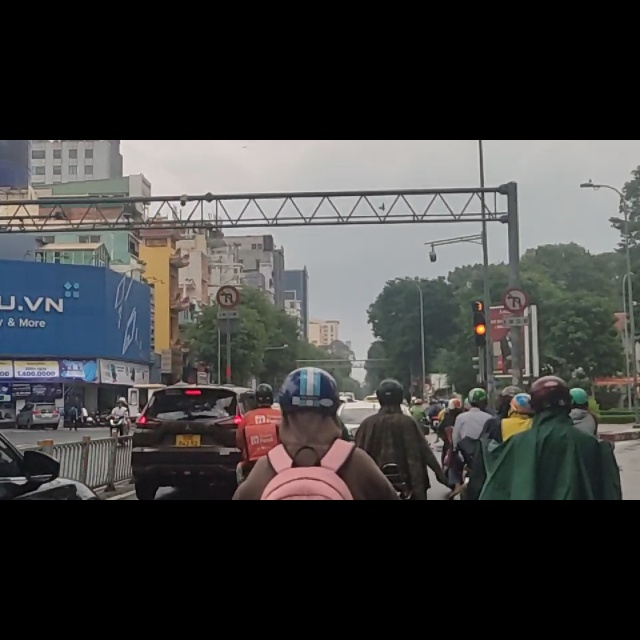bien_cam: (215, 258, 238, 299), (505, 267, 527, 306)
